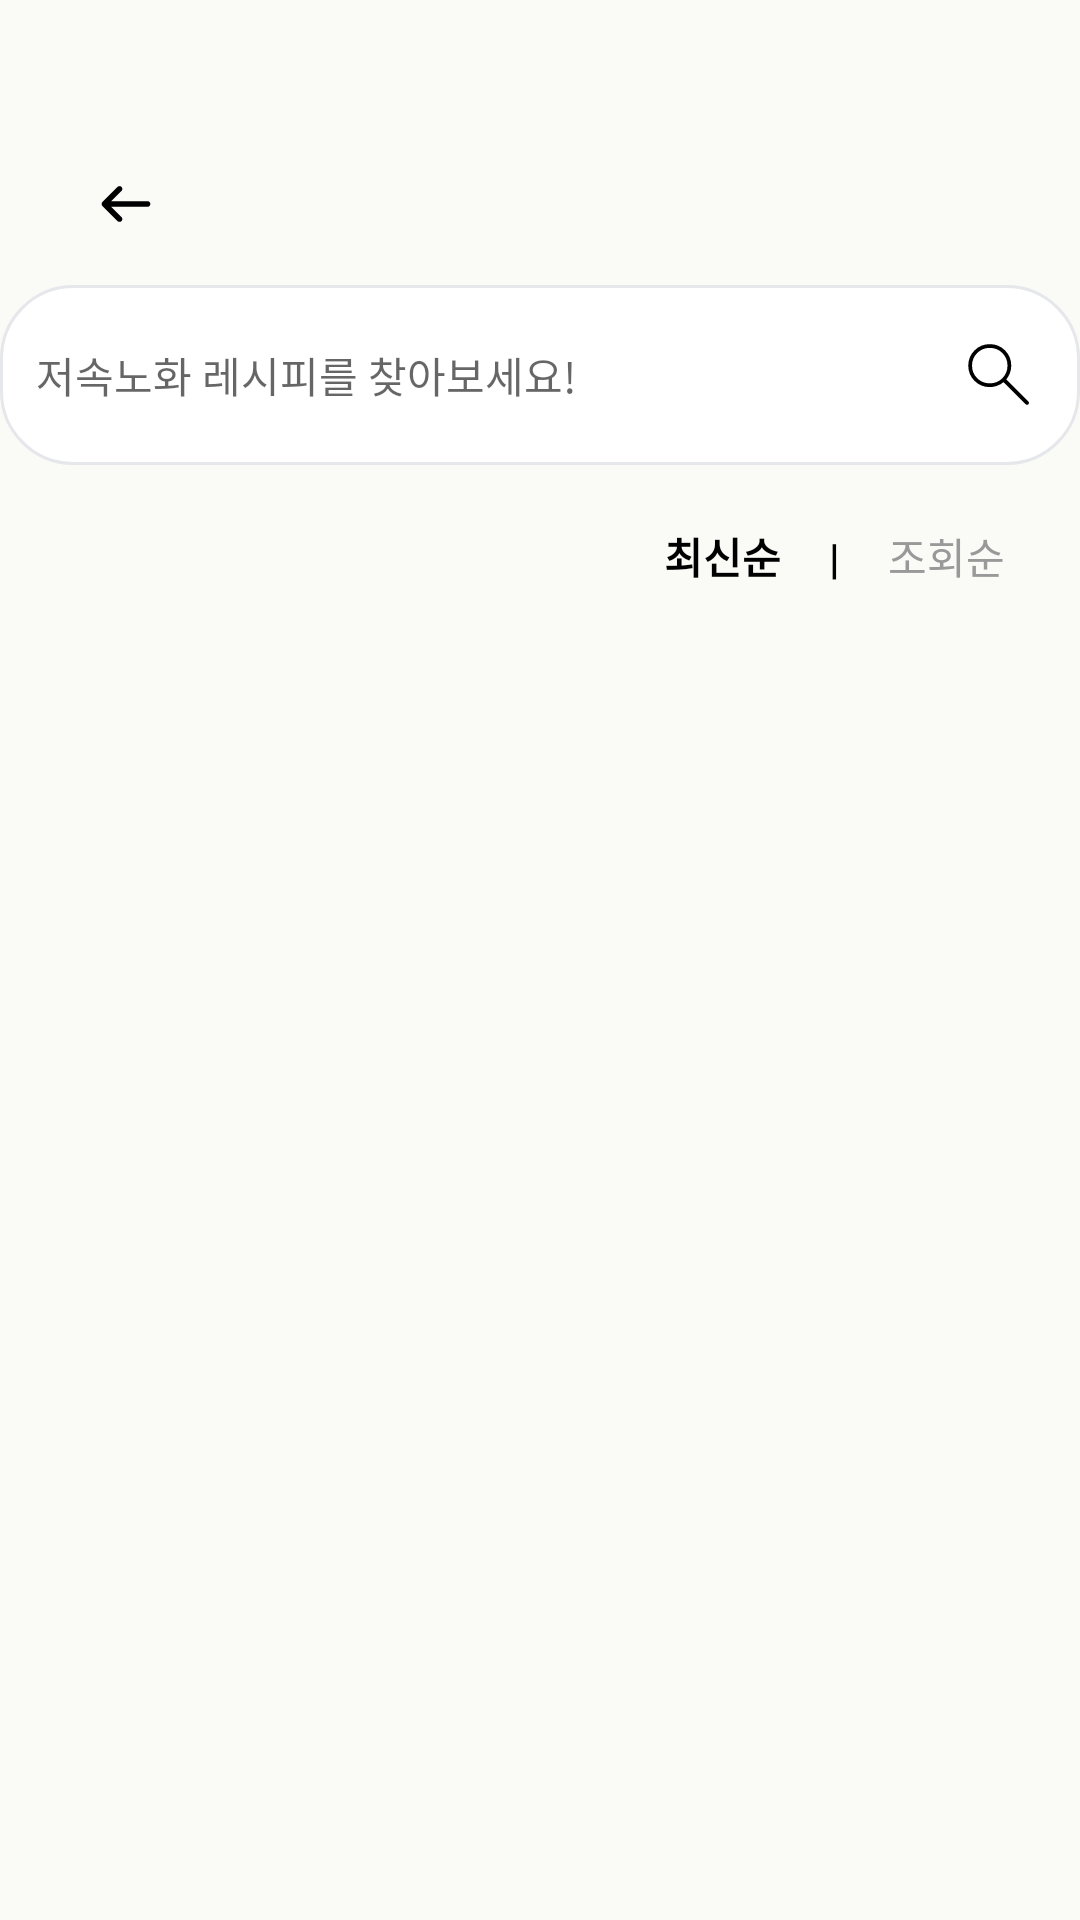

Icon bounding boxes for this 1080 x 1920 phone screenshot, format (x1, y1, x2, y2):
Back: (101, 186, 151, 222)
Search: (968, 344, 1029, 405)
